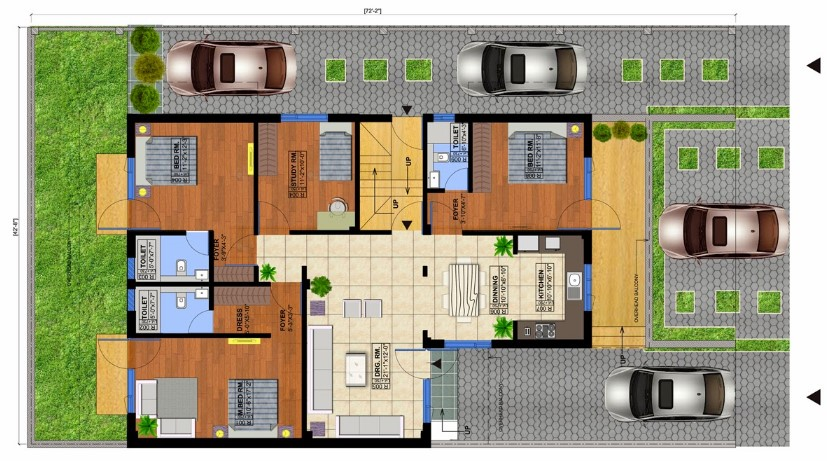door: (596, 195, 627, 233), (96, 199, 121, 236), (96, 336, 121, 373), (393, 347, 418, 377)
room: (300, 227, 593, 351), (302, 230, 432, 455), (126, 333, 306, 451), (125, 113, 260, 236), (467, 111, 593, 236), (252, 107, 361, 240), (125, 228, 215, 287), (126, 281, 216, 340), (421, 110, 477, 193)
